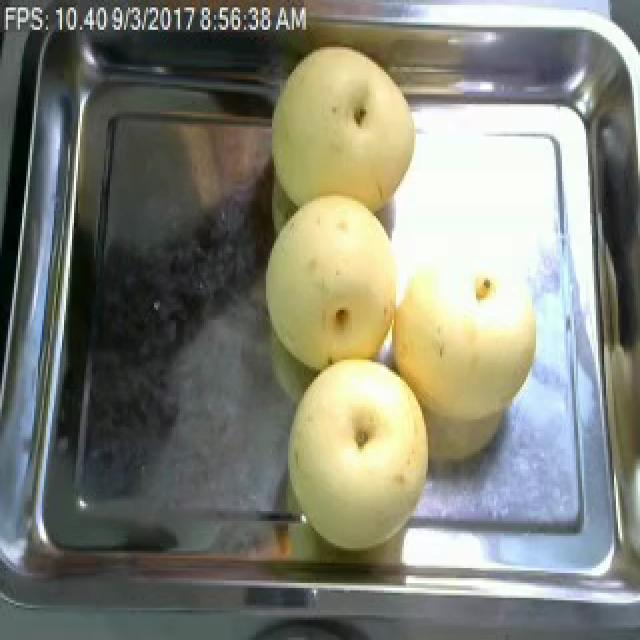Fruit: (380, 255, 550, 469), (278, 350, 440, 558), (254, 186, 412, 382), (268, 37, 426, 228)
